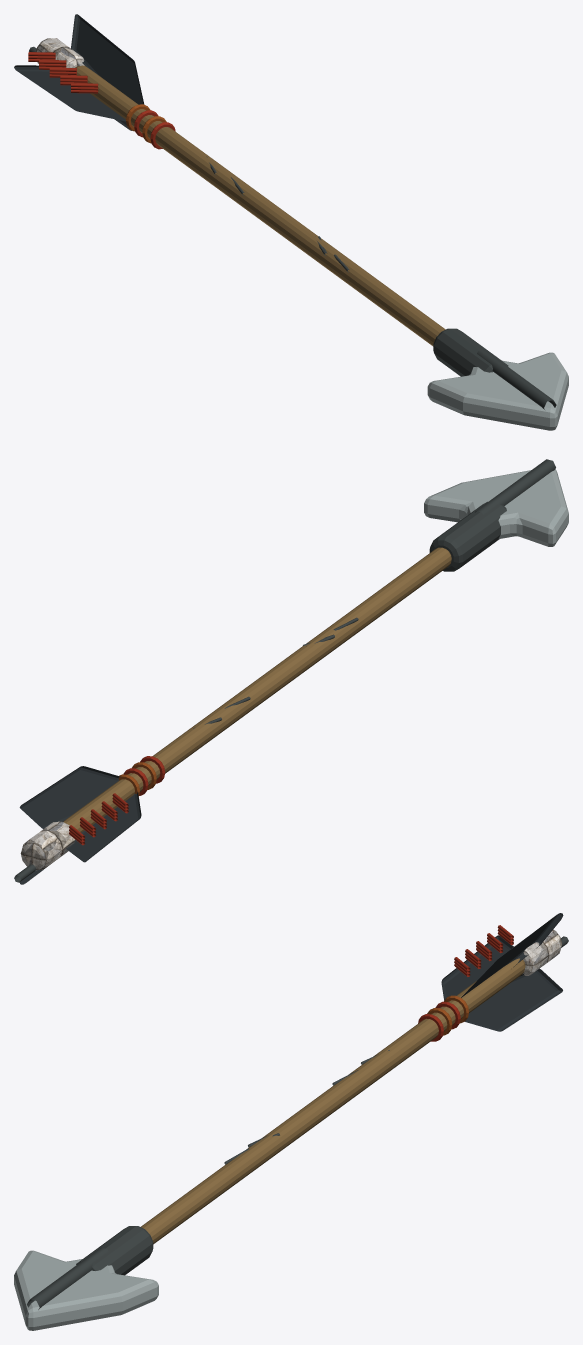
File: arrow_gameplay_LOD0.glb
3 renders of one model, top to bottom at view 1: azimuth 30°, elevation 25°; view 2: azimuth 150°, elevation 25°; view 3: azimuth 330°, elevation 25°, orthographic. The views are drawn at different scales.
Visible parts, largest first — view 1: ArrowReedShaft, ArrowLeafHead, ArrowRavenFletching.001, ArrowHeadSocket, ArrowRavenFletching, ArrowForgedCenterRib, ArrowBoneNock; view 2: ArrowReedShaft, ArrowLeafHead, ArrowRavenFletching.001, ArrowHeadSocket, ArrowRavenFletching, ArrowBoneNock, ArrowForgedCenterRib; view 3: ArrowReedShaft, ArrowLeafHead, ArrowRavenFletching.002, ArrowHeadSocket, ArrowRavenFletching, ArrowRavenFletching.001, ArrowForgedCenterRib, ArrowBoneNock.
Boxes of the visible parts, box(x1,y1,x2,y2) form: ArrowReedShaft: box(75, 65, 445, 346); ArrowLeafHead: box(427, 352, 568, 430); ArrowRavenFletching.001: box(71, 14, 144, 104); ArrowHeadSocket: box(433, 328, 508, 376); ArrowRavenFletching: box(14, 65, 125, 121); ArrowForgedCenterRib: box(477, 349, 556, 409); ArrowBoneNock: box(36, 38, 84, 67); ArrowReedShaft: box(63, 547, 451, 832); ArrowLeafHead: box(424, 469, 568, 546); ArrowRavenFletching.001: box(19, 766, 120, 828); ArrowHeadSocket: box(429, 501, 506, 571); ArrowRavenFletching: box(66, 791, 141, 862); ArrowBoneNock: box(20, 821, 75, 870); ArrowForgedCenterRib: box(475, 459, 555, 515); ArrowReedShaft: box(141, 958, 525, 1244); ArrowLeafHead: box(14, 1250, 158, 1330); ArrowRavenFletching.002: box(465, 968, 562, 1031); ArrowHeadSocket: box(76, 1226, 153, 1275); ArrowRavenFletching: box(441, 935, 513, 1000); ArrowRavenFletching.001: box(461, 913, 563, 997); ArrowForgedCenterRib: box(27, 1247, 108, 1309); ArrowBoneNock: box(512, 929, 562, 975).
Bounding box in the file's own units: 0.1794 × 0.1042 × 1.28.
Materials: 7 (1 with a texture image).
